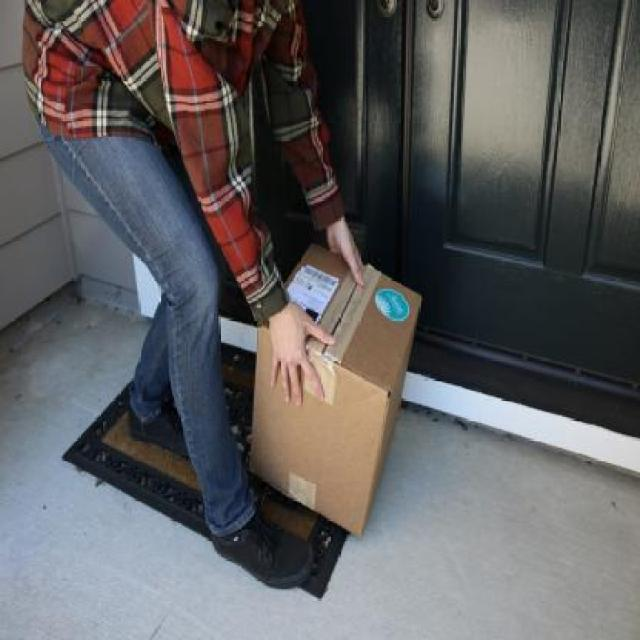cardboxes: (241, 240, 424, 540)
